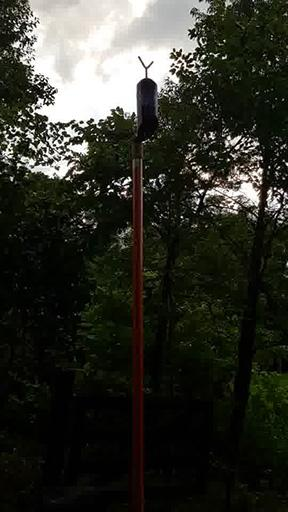Detector_Tensao_Contato: (135, 54, 160, 141)
Vara_Manobra: (128, 142, 150, 507)
